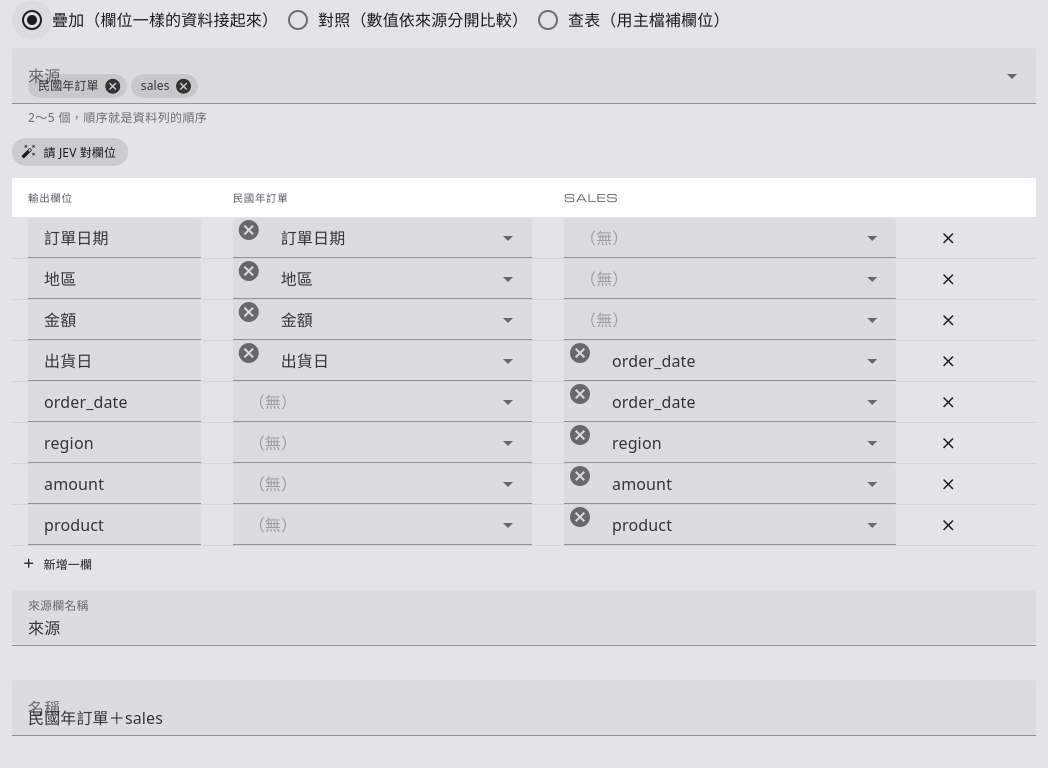
it: MergeForm（JEV 對欄位） › skips a match the user already changed by hand
This screenshot has width=1048, height=768.
Click the button named "刪除第 5 欄" at (948, 402), box x1=928 y1=382 x2=968 y2=422
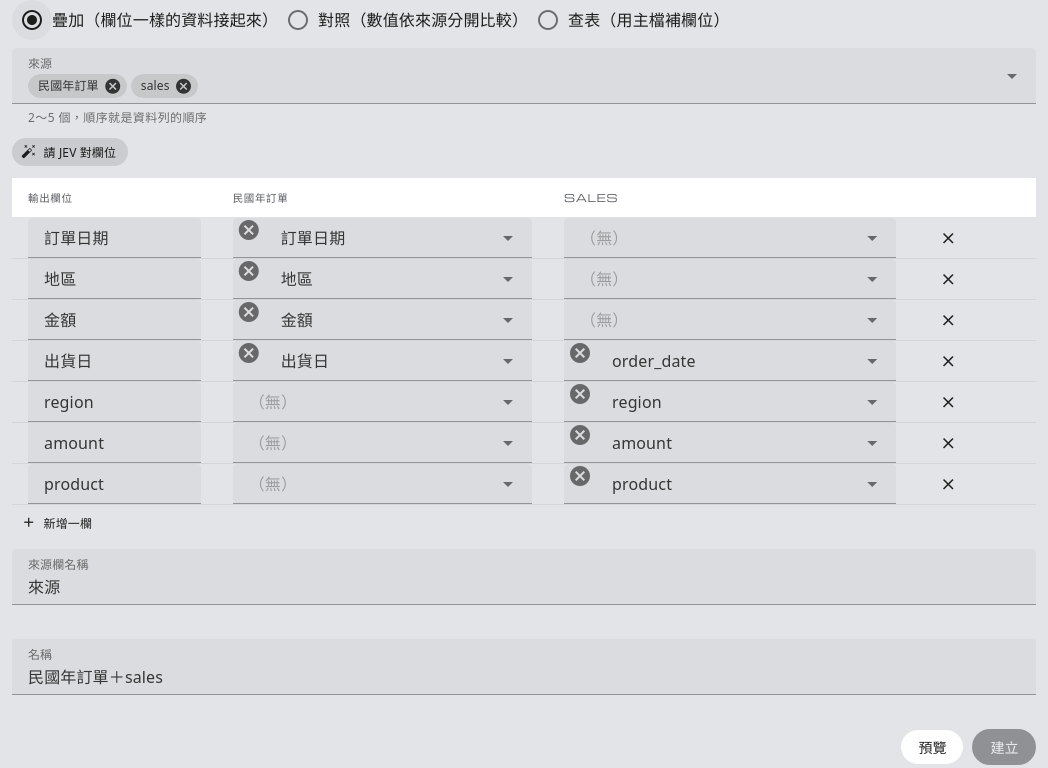
Click the button "請 JEV 對欄位" at (70, 152), box x1=12 y1=138 x2=128 y2=166
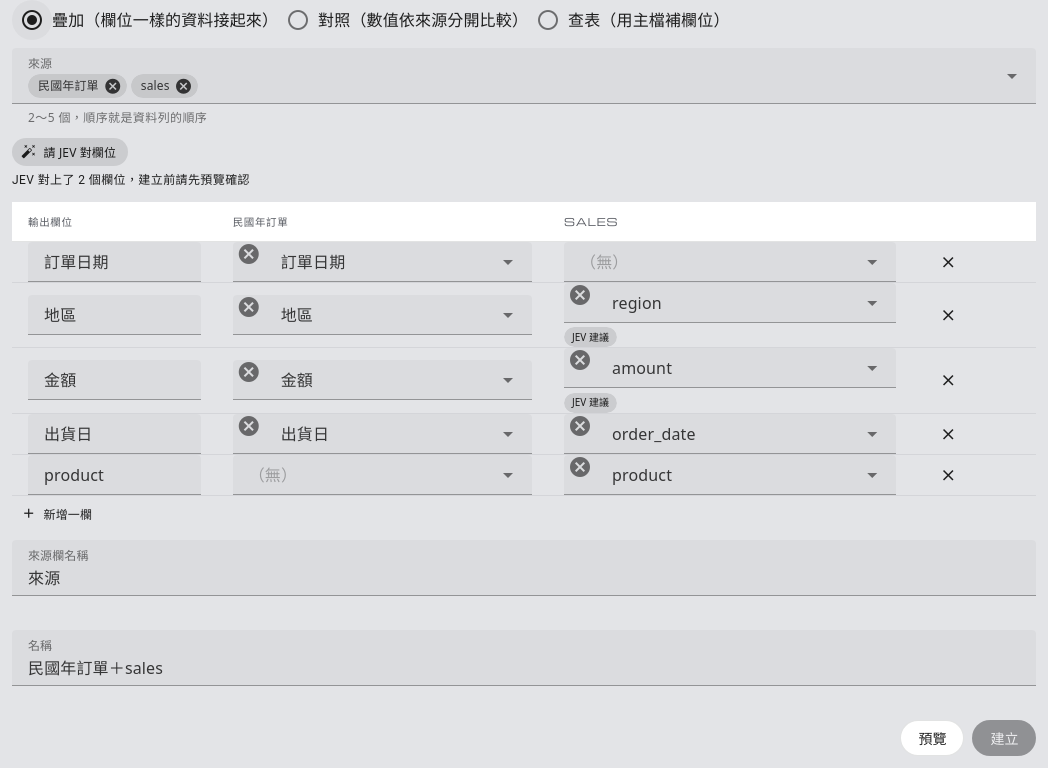
Check: the text "order_date" is shown, box x1=612 y1=422 x2=696 y2=446
Check: the text "JEV 對上了 2 個欄位" is shown, box x1=12 y1=173 x2=250 y2=187
